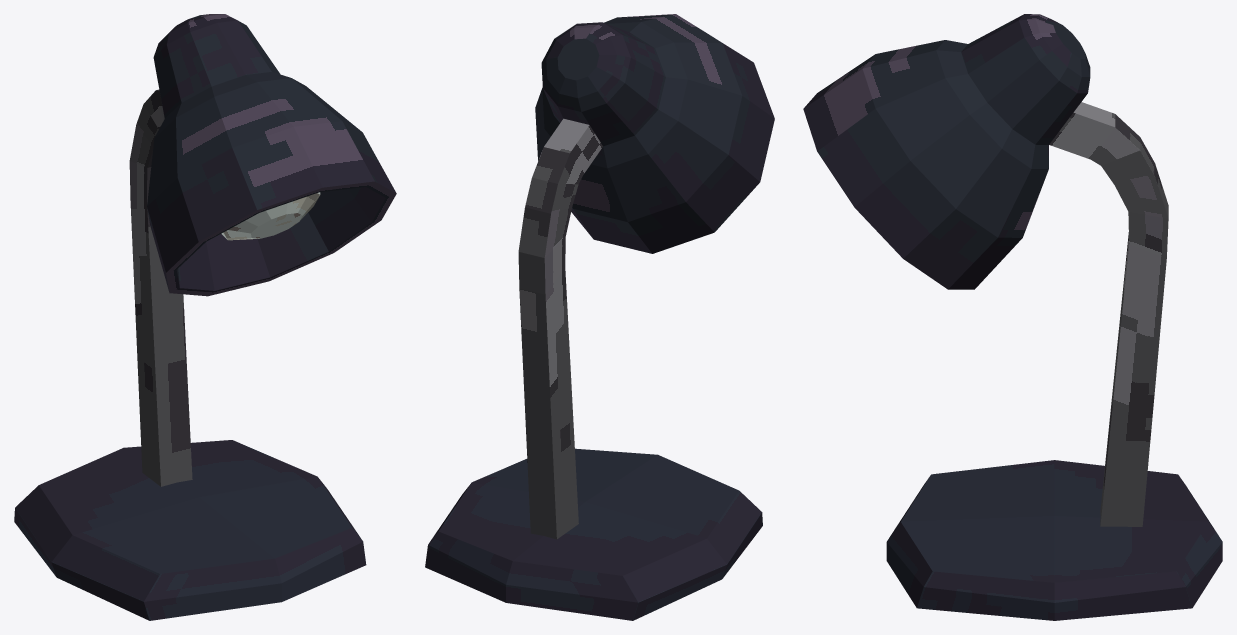
The model's file is Desk_lamp.fbx.
3 views of the same model, side by side, from view 1: azimuth 30°, elevation 25°; view 2: azimuth 150°, elevation 25°; view 3: azimuth 270°, elevation 25° (orthographic). The views are drawn at different scales.
Parts seen in each view (by area): view 1: Cylinder; view 2: Cylinder; view 3: Cylinder.
Part boxes in pixels (x1,y1,x2,y2): Cylinder: [14, 14, 396, 620]; Cylinder: [425, 14, 774, 620]; Cylinder: [803, 14, 1222, 620].
Size of the model in its own units: 477 by 882 by 618.
1 material, 1 textured.
